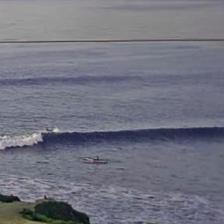surfer: (94, 155, 100, 161), (46, 129, 52, 131)
